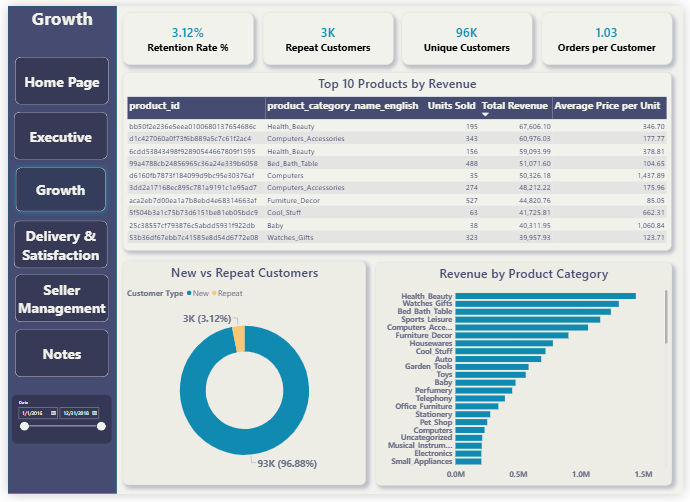

The dashboard page shown, as its layout file describes it:
{"tool":"powerbi","page":{"name":"Growth","canvas":[1800,1300],"ordinal":2},"visuals":[{"type":"shape","box":[0,0,290,1300],"z":0},{"type":"cardVisual","fields":{"Data":["Measure Table.Retention Rate %"]},"box":[307.5,15,348,140],"z":0,"group":"g1"},{"type":"cardVisual","fields":{"Data":["Measure Table.Repeat Customers"]},"box":[679.5,15,348,140],"z":1000,"group":"g1"},{"type":"clusteredBarChart","title":"Revenue by Product Category","fields":{"Category":["products.Category Display"],"Y":["Measure Table.Total Revenue"]},"box":[980,682.5,790,595],"z":1000},{"type":"cardVisual","fields":{"Data":["Measure Table.Unique Customers"]},"box":[1051.5,15,348,140],"z":2000,"group":"g1"},{"type":"donutChart","title":"New vs Repeat Customers","fields":{"Category":["customers.Customer Type"],"Y":["Measure Table.Unique Customers"]},"box":[307.5,680,647.5,597.5],"z":2000},{"type":"cardVisual","fields":{"Data":["Measure Table.Orders per Customer"]},"box":[1423.6,15,348,140],"z":3000,"group":"g1"},{"type":"actionButton","title":"Home Page","box":[8.4,852,267,145],"z":3000,"group":"g2"},{"type":"actionButton","title":"Home Page","box":[7.7,126,267.5,145],"z":4000,"group":"g2"},{"type":"tableEx","title":"Top 10 Products by Revenue","fields":{"Values":["order_items.product_id","product_category_name_translation.product_category_name_english","Measure Table.Units Sold","Measure Table.Total Revenue","Measure Table.Average Price per Unit"]},"box":[307.5,175,1462.5,475],"z":4000},{"type":"group","id":"g1","title":"Group 1","box":[307.5,15,1462.5,140],"z":5000},{"type":"actionButton","title":"Home Page","box":[7.1,271.2,267.5,145],"z":5000,"group":"g2"},{"type":"actionButton","title":"Home Page","box":[6.6,416.4,267.5,145],"z":6000,"group":"g2"},{"type":"actionButton","title":"Home Page","box":[6,561.6,267.5,145],"z":7000,"group":"g2"},{"type":"slicer","fields":{"Values":["Date.Date"]},"box":[10,1036,266,130],"z":7000},{"type":"actionButton","title":"Home Page","box":[8.3,706.8,267,145],"z":8000,"group":"g2"},{"type":"group","id":"g2","title":"Group 2","box":[6,126,269.4,871],"z":8001}]}

Visuals, with their boxes in screenshot pixels (x1, y1, x2, y2), scaled from the page's 1800x1300 canvas onto the 690x502 screenshot:
shape: bbox(0, 0, 111, 501)
cardVisual - Measure Table.Retention Rate %: bbox(118, 6, 251, 60)
cardVisual - Measure Table.Repeat Customers: bbox(260, 6, 394, 60)
"Revenue by Product Category" clusteredBarChart: bbox(376, 264, 678, 493)
cardVisual - Measure Table.Unique Customers: bbox(403, 6, 536, 60)
"New vs Repeat Customers" donutChart: bbox(118, 263, 366, 493)
cardVisual - Measure Table.Orders per Customer: bbox(546, 6, 679, 60)
"Home Page" actionButton: bbox(3, 329, 106, 385)
"Home Page" actionButton: bbox(3, 49, 105, 105)
"Top 10 Products by Revenue" tableEx: bbox(118, 68, 678, 251)
"Group 1" group: bbox(118, 6, 678, 60)
"Home Page" actionButton: bbox(3, 105, 105, 161)
"Home Page" actionButton: bbox(3, 161, 105, 217)
"Home Page" actionButton: bbox(2, 217, 105, 273)
slicer - Date.Date: bbox(4, 400, 106, 450)
"Home Page" actionButton: bbox(3, 273, 106, 329)
"Group 2" group: bbox(2, 49, 106, 385)
